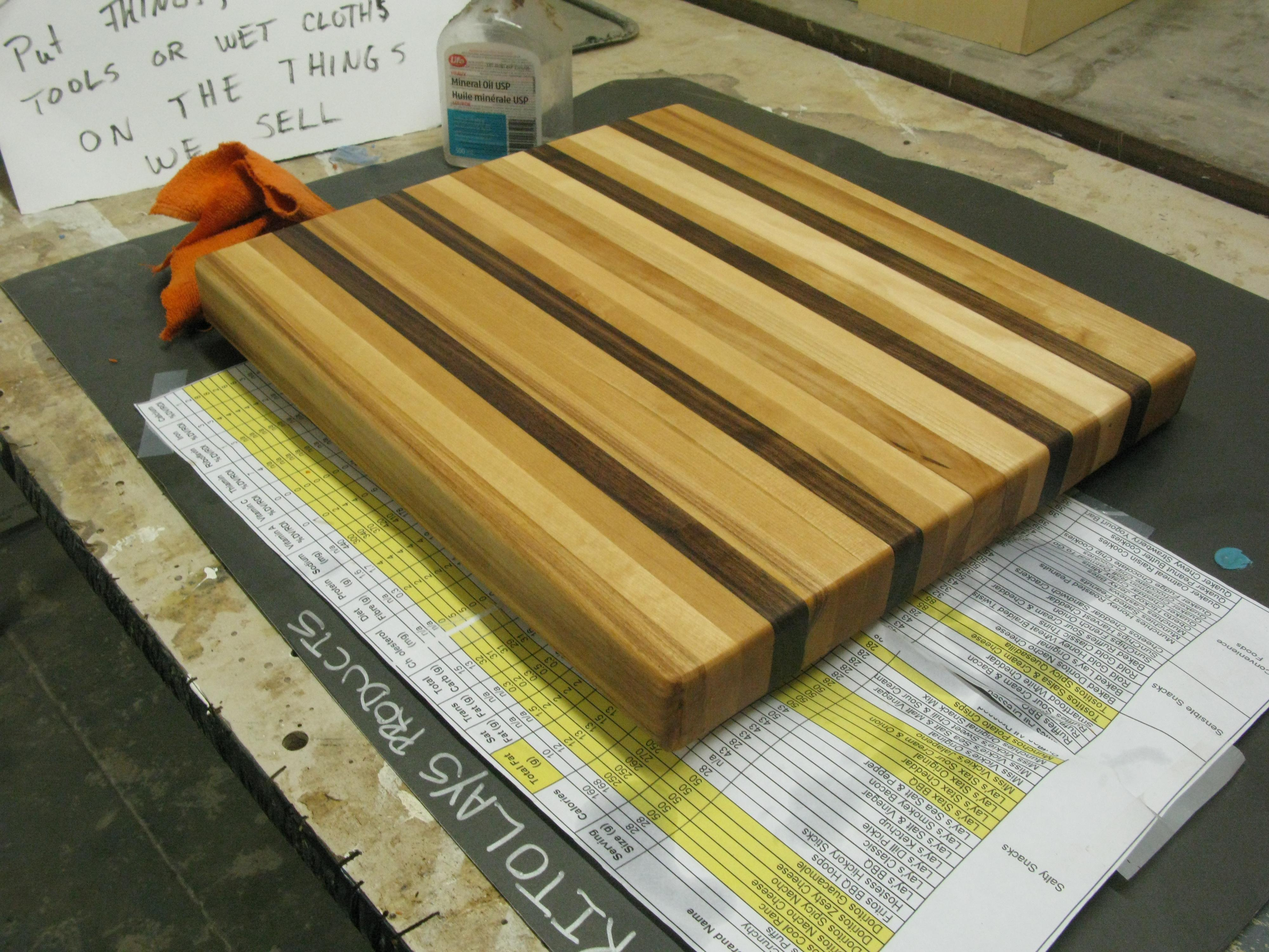gloved_hand: (166, 89, 1199, 765)
